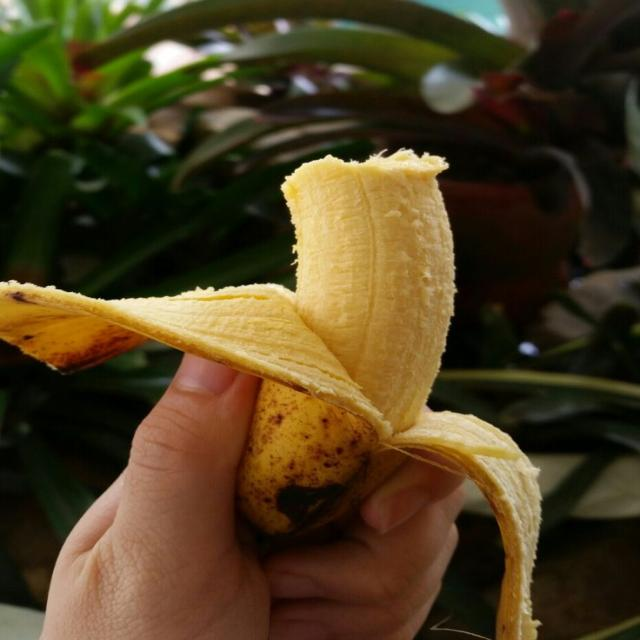banana: (0, 152, 539, 639)
